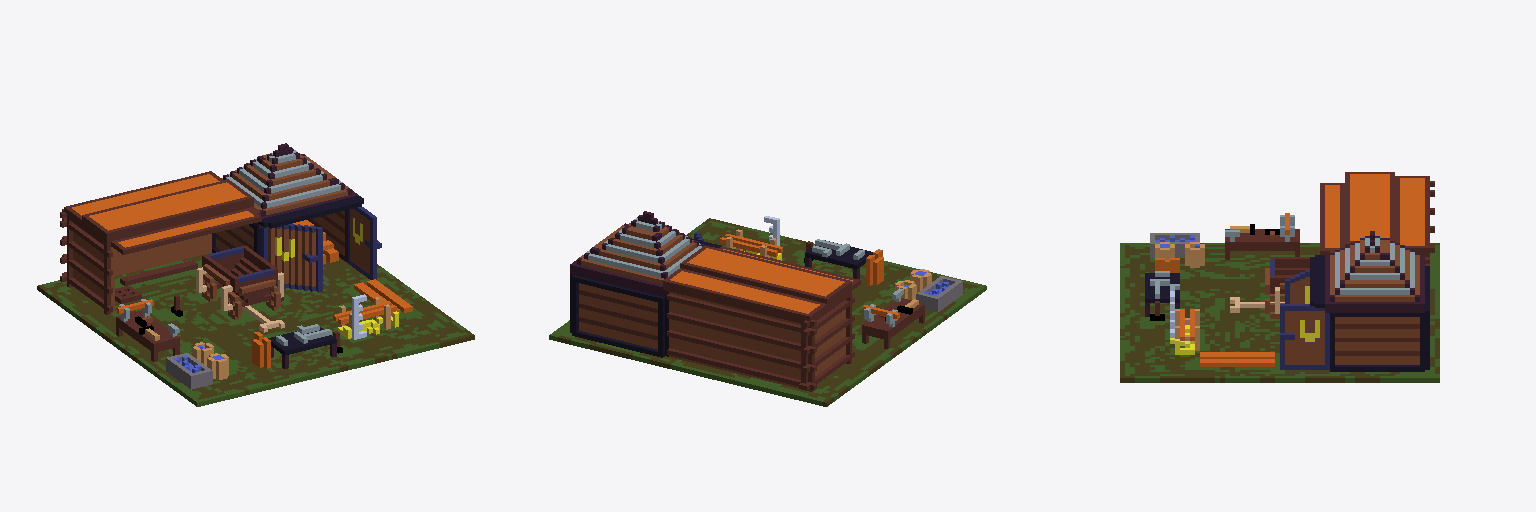
3 views of the same model, side by side, from view 1: azimuth 30°, elevation 25°; view 2: azimuth 150°, elevation 25°; view 3: azimuth 270°, elevation 25° (orthographic).
Visible parts, largest first — view 1: object 1; view 2: object 1; view 3: object 1.
Boxes of the visible parts, x1,y1,x2,y2 form: object 1: [37, 143, 474, 406]; object 1: [549, 211, 986, 406]; object 1: [1120, 172, 1439, 382].
Bounding box in the file's own units: 6.4 × 2.6 × 6.4.
Materials: 1 (1 with a texture image).